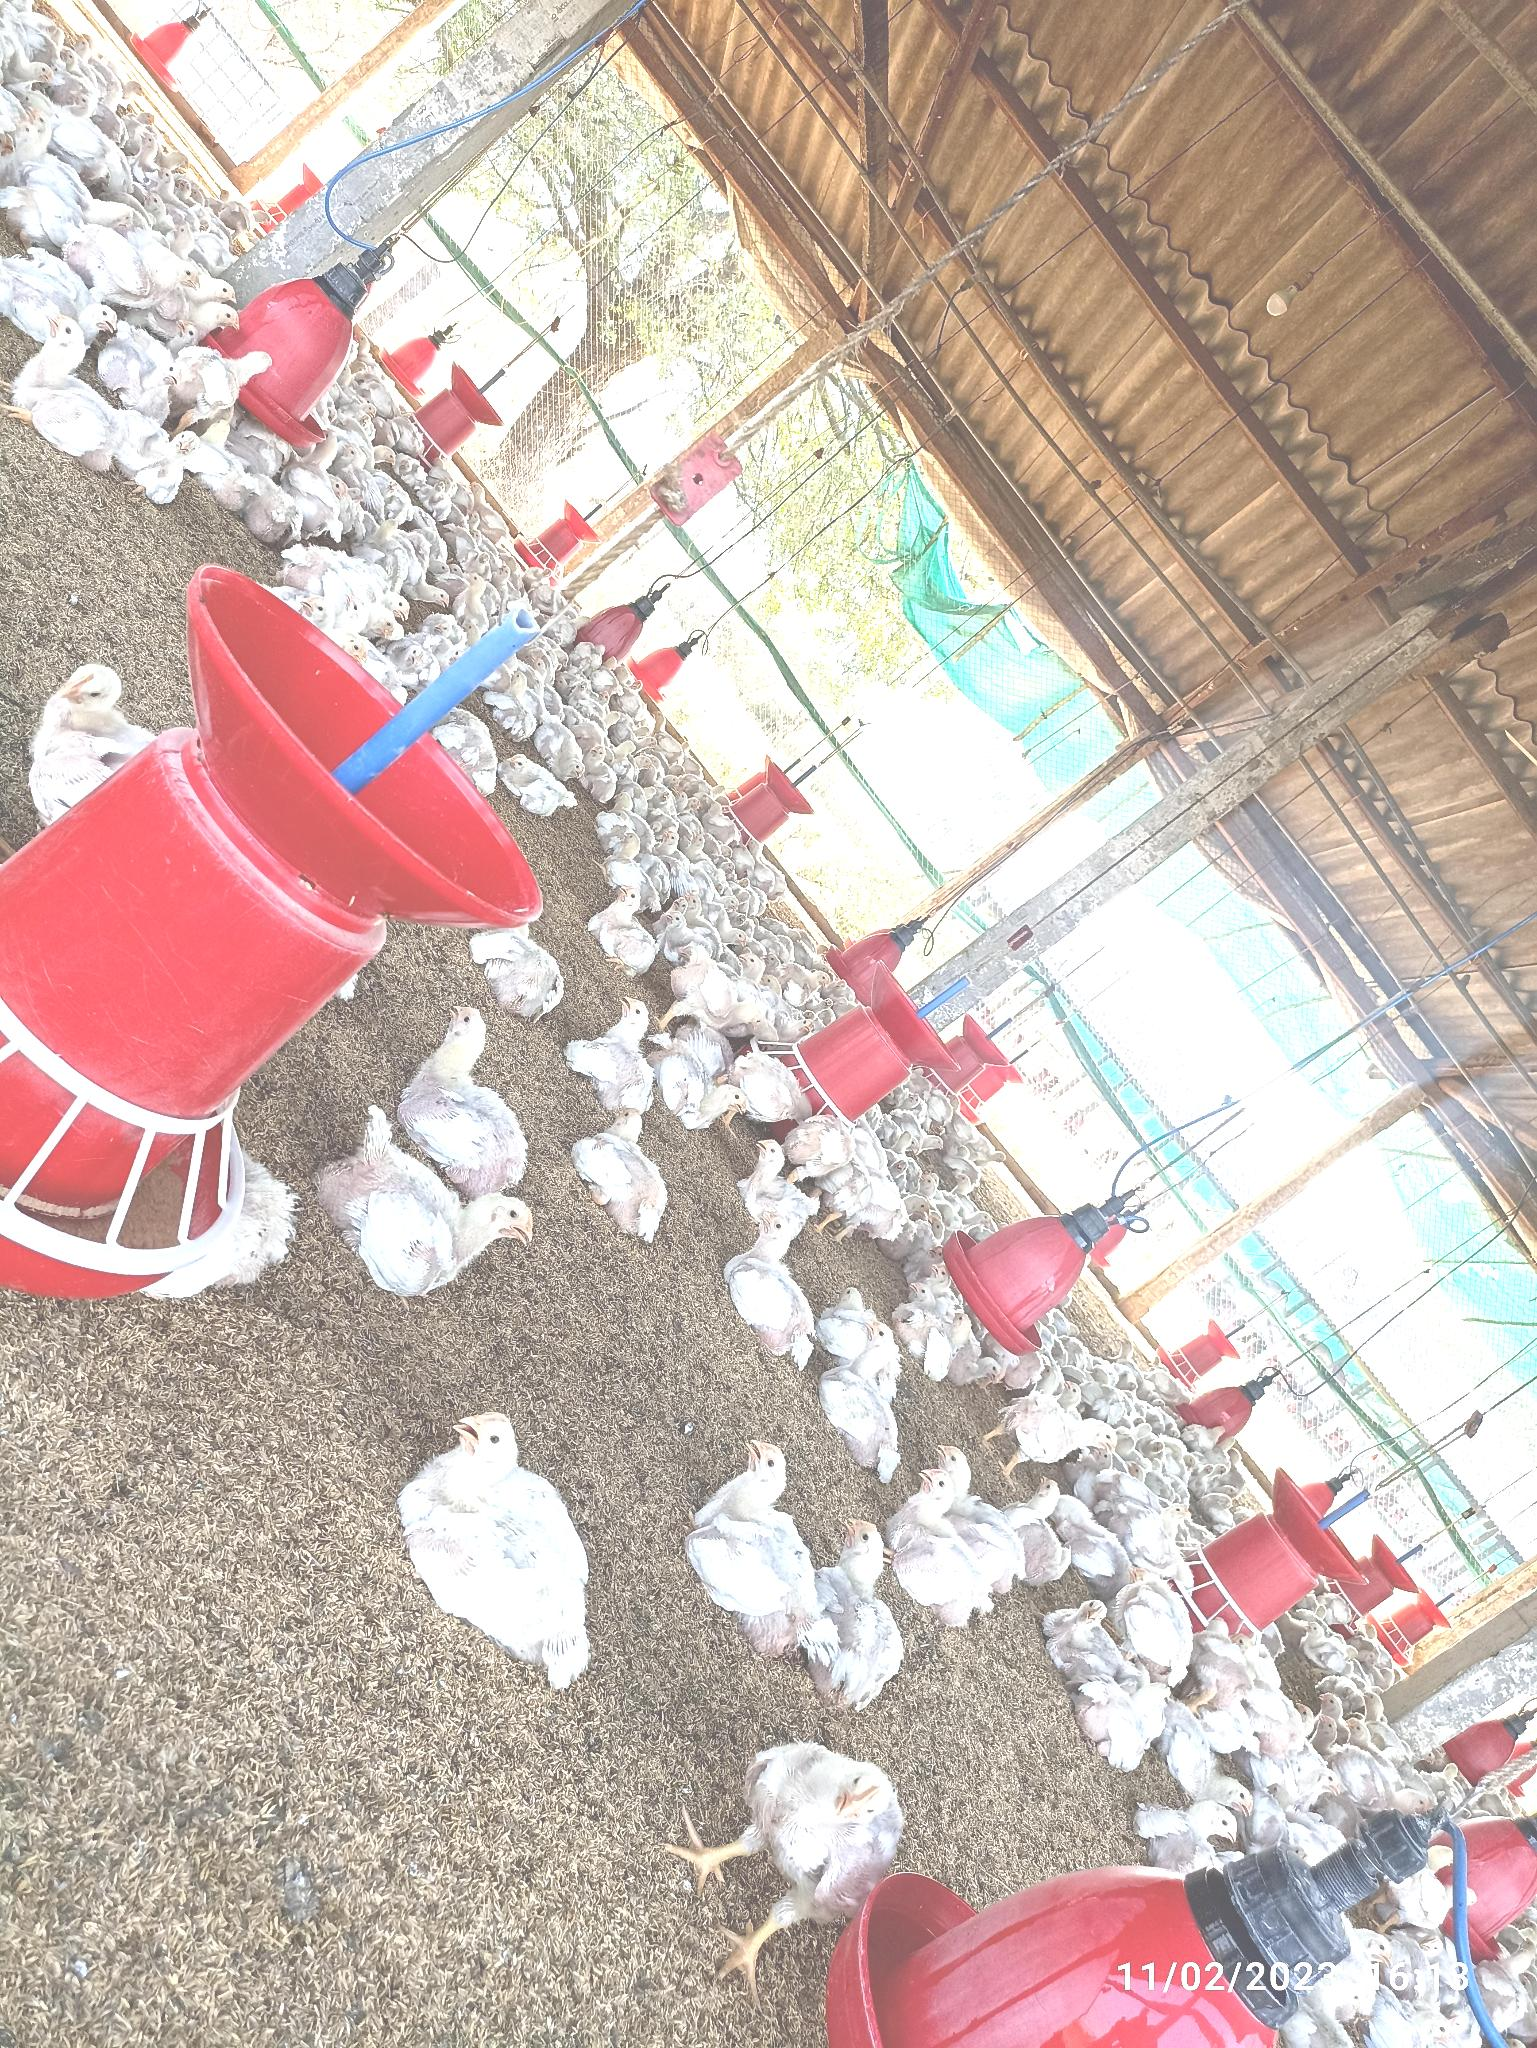Pollos: (387, 1411, 618, 1682), (334, 1139, 534, 1299), (736, 1741, 903, 1895), (689, 1440, 802, 1645), (806, 1514, 903, 1691), (718, 1206, 822, 1359), (408, 1002, 521, 1130), (18, 311, 116, 453), (32, 657, 136, 791), (893, 1452, 980, 1611), (568, 1112, 668, 1239), (820, 1323, 898, 1454), (578, 1005, 668, 1101), (655, 1043, 752, 1125), (1007, 1390, 1112, 1465), (126, 415, 200, 508), (589, 886, 662, 976), (1004, 1480, 1062, 1582), (1046, 1598, 1112, 1666), (502, 754, 575, 813), (1143, 1804, 1238, 1849)
